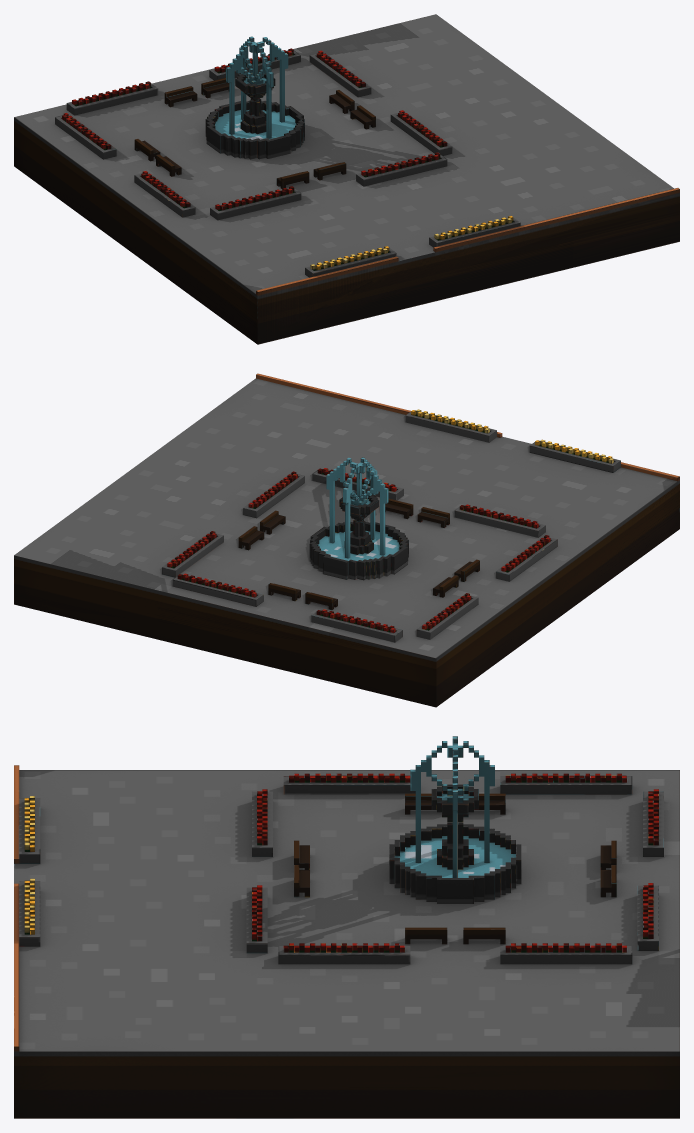
The picture shows the model from 3 angles, top to bottom: view 1: azimuth 30°, elevation 25°; view 2: azimuth 150°, elevation 25°; view 3: azimuth 270°, elevation 25°; orthographic projection. The views are drawn at different scales.
Parts seen in each view (by area): view 1: _C; view 2: _C; view 3: _C.
Part boxes in pixels (x1,y1,x2,y2): _C: (14,14,679,344); _C: (14,373,679,707); _C: (14,736,679,1118).
Bounding box in the file's own units: 126 × 126 × 42.
Materials: 1 (1 with a texture image).
